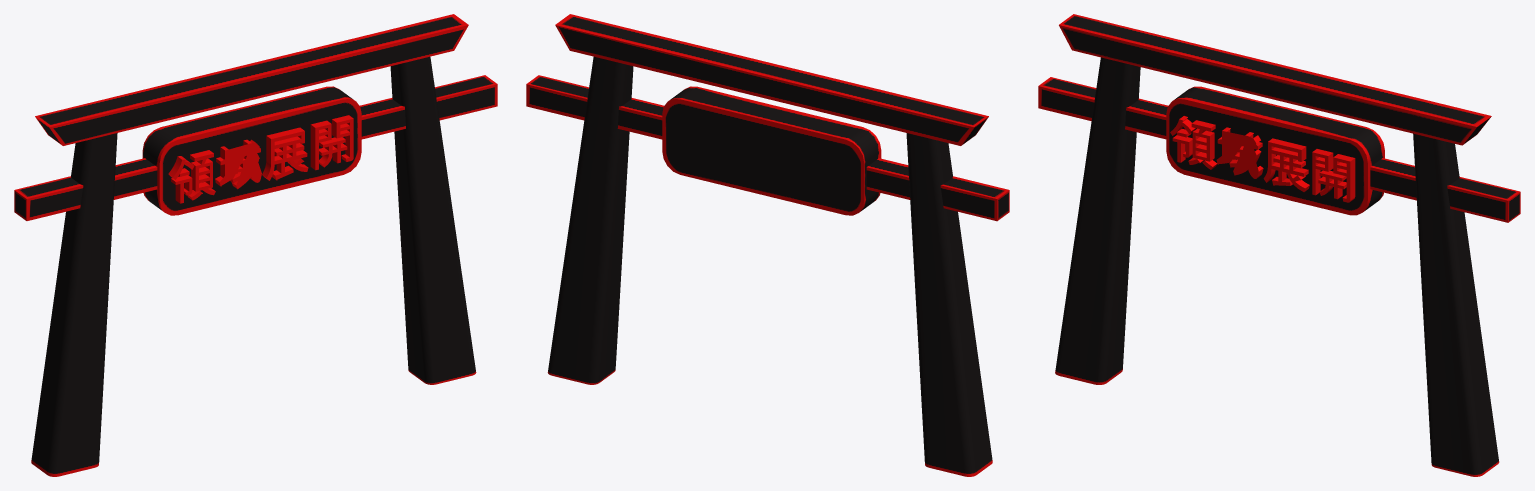
Rendered from Neotokyo_Arch.fbx.
3 views of the same model, side by side, from view 1: azimuth 30°, elevation 25°; view 2: azimuth 150°, elevation 25°; view 3: azimuth 330°, elevation 25° (orthographic).
Parts seen in each view (by area): view 1: pCube1, pCube7, pCube6, pCube4, pCube3, typeMesh1; view 2: pCube4, pCube1, pCube7, pCube6, pCube3; view 3: pCube7, pCube1, pCube6, pCube4, pCube3, typeMesh1.
Part boxes in pixels (x1,y1,x2,y2): pCube1: [31, 133, 117, 476]; pCube7: [390, 56, 476, 384]; pCube6: [35, 14, 468, 145]; pCube4: [142, 86, 361, 215]; pCube3: [14, 75, 497, 220]; typeMesh1: [168, 115, 353, 203]; pCube4: [662, 86, 881, 215]; pCube1: [906, 133, 992, 476]; pCube7: [547, 56, 633, 384]; pCube6: [555, 14, 988, 145]; pCube3: [526, 75, 1009, 221]; pCube7: [1413, 133, 1499, 476]; pCube1: [1055, 57, 1140, 384]; pCube6: [1059, 14, 1491, 145]; pCube4: [1166, 86, 1384, 215]; pCube3: [1038, 77, 1520, 222]; typeMesh1: [1170, 116, 1355, 202].
Bounding box in the file's own units: 22.22 × 15.65 × 2.06.
